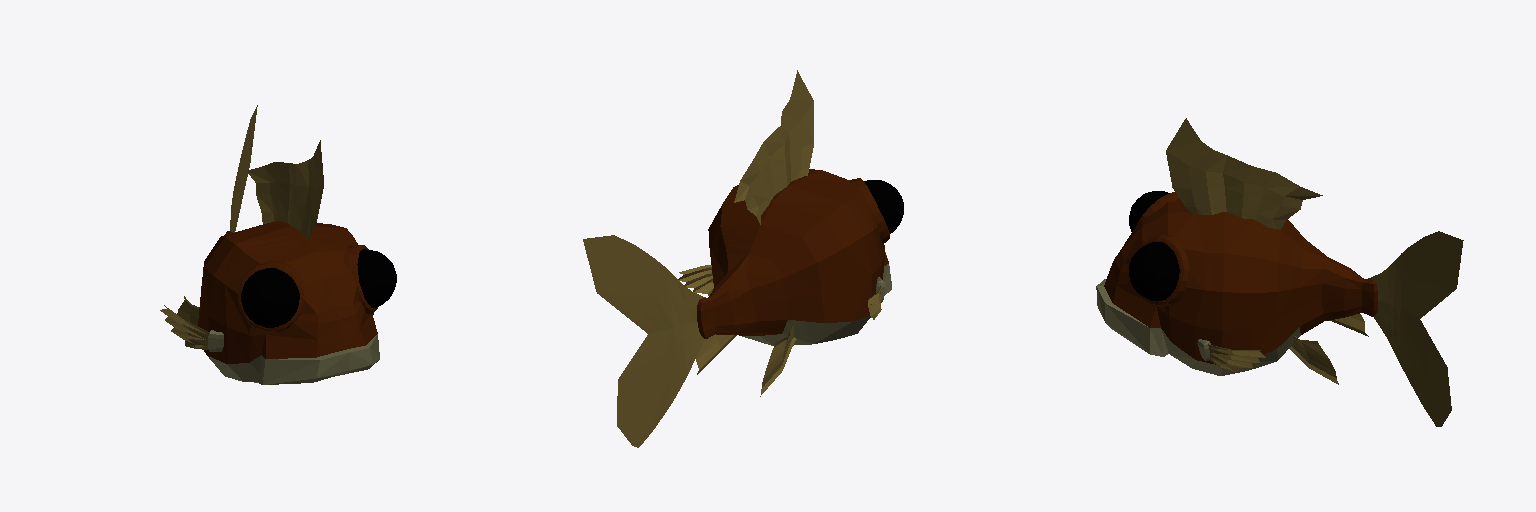
Rendered from Goldfish.obj.
3 renders of one model, left to right at view 1: azimuth 30°, elevation 25°; view 2: azimuth 150°, elevation 25°; view 3: azimuth 270°, elevation 25°, orthographic.
Visible parts, largest first — view 1: Cube.025_Cube.018, Cube.001_Cube.007; view 2: Cube.025_Cube.018, Cube.001_Cube.007; view 3: Cube.025_Cube.018, Cube.001_Cube.007.
Boxes of the visible parts, <box> form: Cube.025_Cube.018: <box>198,105,396,384</box>; Cube.001_Cube.007: <box>160,296,223,351</box>; Cube.025_Cube.018: <box>583,70,903,447</box>; Cube.001_Cube.007: <box>678,265,885,396</box>; Cube.025_Cube.018: <box>1096,118,1463,426</box>; Cube.001_Cube.007: <box>1197,314,1368,384</box>.
Size of the model in its own units: 3.25 by 4.63 by 5.24.